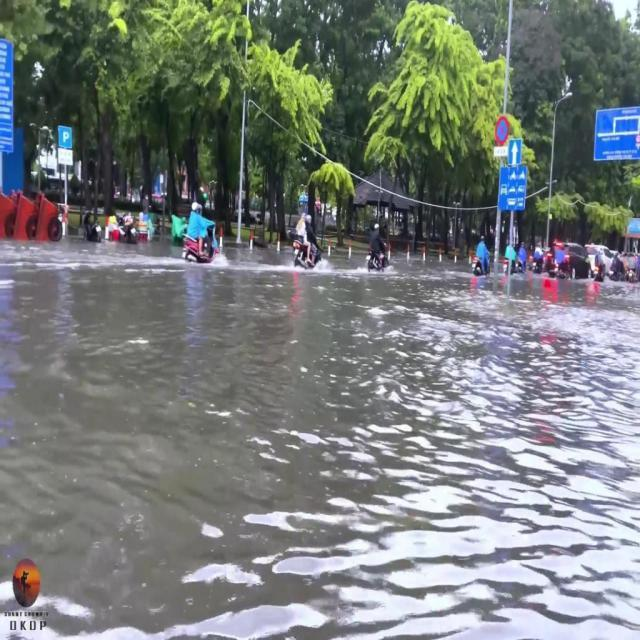130-cam-dung-va-do-xe: (496, 115, 508, 145)
407a-duong-mot-chieu: (506, 139, 522, 165)
